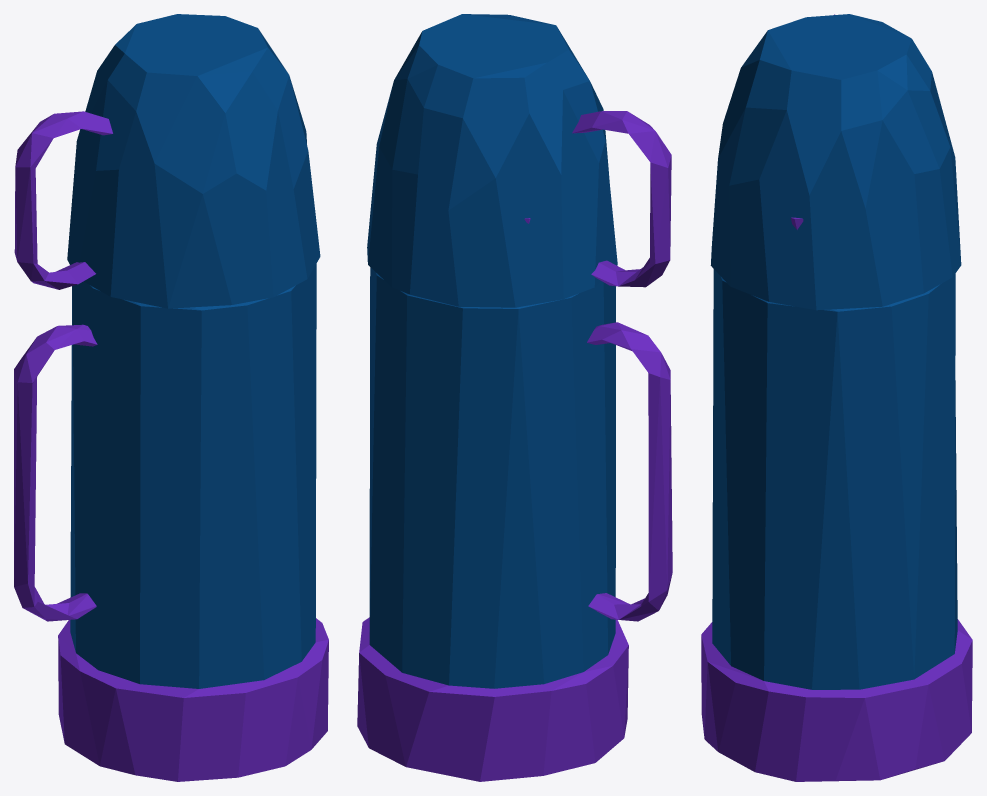
The model's file is ThermosBottle.fbx.
The picture shows the model from 3 angles, left to right: view 1: azimuth 30°, elevation 25°; view 2: azimuth 150°, elevation 25°; view 3: azimuth 270°, elevation 25°; orthographic projection.
Visible parts, largest first — view 1: ThermosBottleLowPoly, ThermosBottleCupLowPoly; view 2: ThermosBottleLowPoly, ThermosBottleCupLowPoly; view 3: ThermosBottleLowPoly, ThermosBottleCupLowPoly.
Boxes of the visible parts, x1,y1,x2,y2 form: ThermosBottleLowPoly: (14,264,328,781); ThermosBottleCupLowPoly: (14,14,320,308); ThermosBottleLowPoly: (357,218,672,781); ThermosBottleCupLowPoly: (367,14,671,307); ThermosBottleLowPoly: (701,217,972,781); ThermosBottleCupLowPoly: (710,14,961,310).
Bounding box in the file's own units: 10.67 × 23.61 × 8.5.
